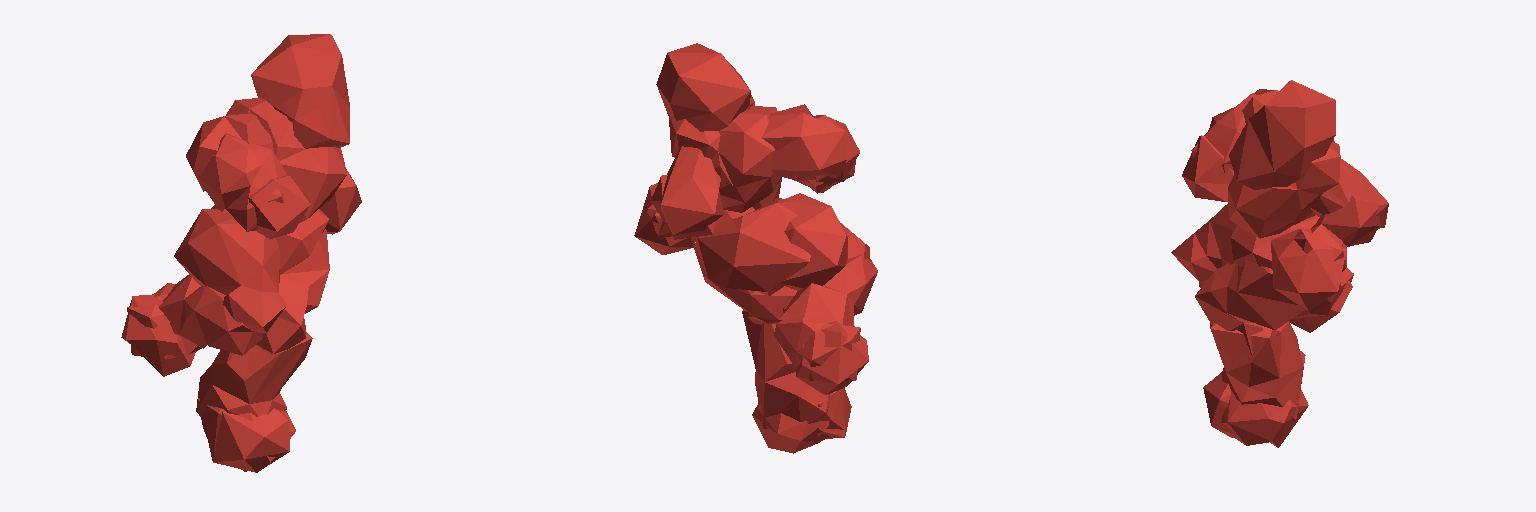
File: dance_frames0337.obj
3 views of the same model, side by side, from view 1: azimuth 30°, elevation 25°; view 2: azimuth 150°, elevation 25°; view 3: azimuth 270°, elevation 25° (orthographic).
Visible parts, largest first — view 1: Beta_Surface; view 2: Beta_Surface; view 3: Beta_Surface.
Boxes of the visible parts, x1=… form: Beta_Surface: x1=121, y1=34, x2=361, y2=472; Beta_Surface: x1=634, y1=43, x2=877, y2=453; Beta_Surface: x1=1171, y1=80, x2=1388, y2=447.
Size of the model in its own units: 1.2 by 1.95 by 0.9847.